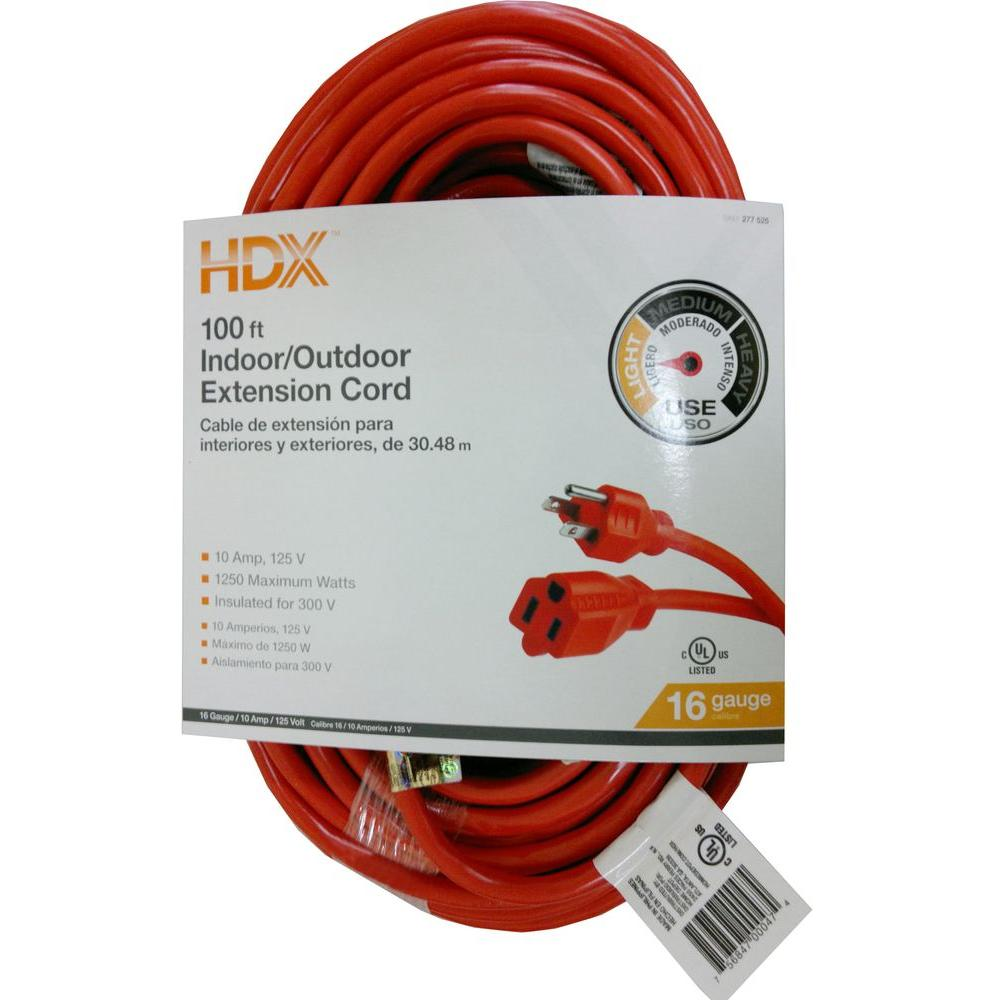Nonrec_Tangler: (175, 1, 932, 958)
